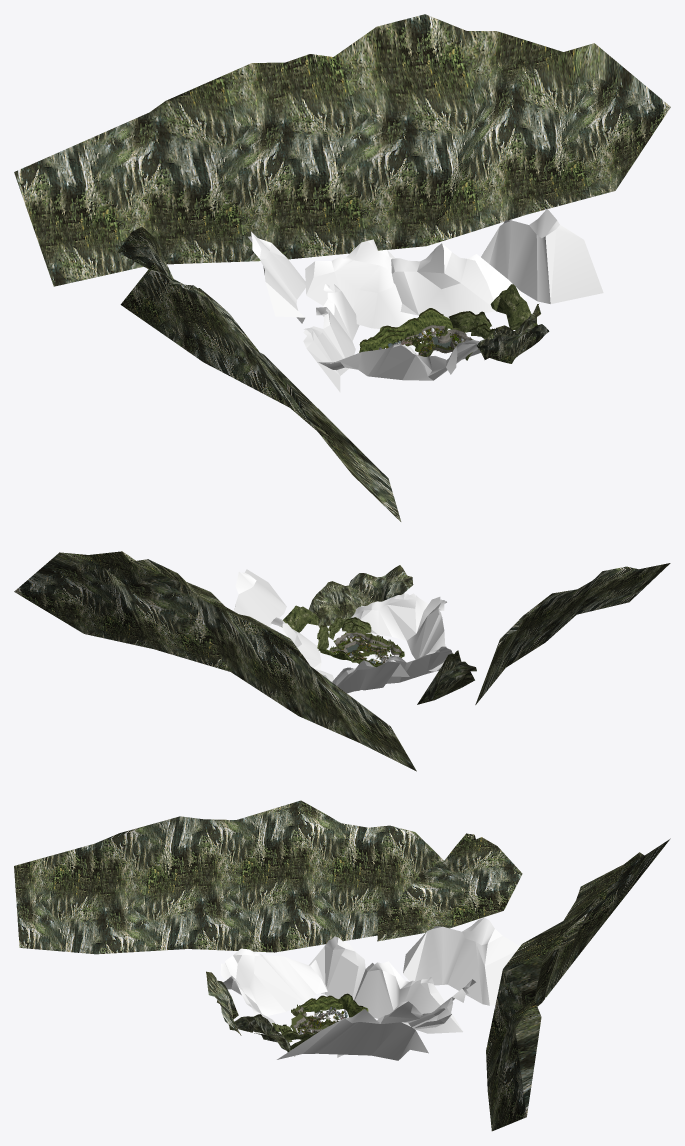
The model's file is burnout_dominator_bushido_peak.glb.
The picture shows the model from 3 angles, top to bottom: view 1: azimuth 30°, elevation 25°; view 2: azimuth 150°, elevation 25°; view 3: azimuth 270°, elevation 25°; orthographic projection. The views are drawn at different scales.
Parts seen in each view (by area): view 1: backdrop_grp_009_mdl_003_sub_000, backdrop_grp_009_mdl_004_sub_000, backdrop_grp_009_mdl_002_sub_000, backdrop_grp_009_mdl_008_sub_002, backdrop_grp_009_mdl_000_sub_000, backdrop_grp_009_mdl_001_sub_000, backdrop_grp_009_mdl_006_sub_000, backdrop_grp_009_mdl_005_sub_000, backdrop_grp_009_mdl_007_sub_000, backdrop_grp_009_mdl_003_sub_001, backdrop_grp_009_mdl_005_sub_001, backdrop_grp_009_mdl_008_sub_001 (+2 smaller); view 2: backdrop_grp_009_mdl_002_sub_000, backdrop_grp_009_mdl_003_sub_000, backdrop_grp_009_mdl_004_sub_000, backdrop_grp_009_mdl_000_sub_000, backdrop_grp_009_mdl_008_sub_002, backdrop_grp_009_mdl_006_sub_000, backdrop_grp_009_mdl_001_sub_000, backdrop_grp_009_mdl_008_sub_001, backdrop_grp_009_mdl_007_sub_000, backdrop_grp_009_mdl_005_sub_000, backdrop_grp_009_mdl_005_sub_001, backdrop_grp_009_mdl_008_sub_000; view 3: backdrop_grp_009_mdl_006_sub_000, backdrop_grp_009_mdl_007_sub_000, backdrop_grp_009_mdl_005_sub_000, backdrop_grp_009_mdl_000_sub_000, backdrop_grp_009_mdl_005_sub_001, backdrop_grp_009_mdl_008_sub_002, backdrop_grp_009_mdl_002_sub_000, backdrop_grp_009_mdl_001_sub_000, backdrop_grp_009_mdl_004_sub_000, backdrop_grp_009_mdl_003_sub_000, backdrop_grp_009_mdl_008_sub_001, backdrop_grp_009_mdl_003_sub_001 (+1 smaller).
Part boxes in pixels (<box>): backdrop_grp_009_mdl_003_sub_000: <box>245,14,473,259</box>; backdrop_grp_009_mdl_004_sub_000: <box>14,63,278,286</box>; backdrop_grp_009_mdl_002_sub_000: <box>425,14,615,245</box>; backdrop_grp_009_mdl_008_sub_002: <box>392,208,603,359</box>; backdrop_grp_009_mdl_000_sub_000: <box>306,272,477,380</box>; backdrop_grp_009_mdl_001_sub_000: <box>564,43,670,190</box>; backdrop_grp_009_mdl_006_sub_000: <box>150,269,316,430</box>; backdrop_grp_009_mdl_005_sub_000: <box>118,226,202,361</box>; backdrop_grp_009_mdl_007_sub_000: <box>252,348,401,521</box>; backdrop_grp_009_mdl_003_sub_001: <box>248,237,420,315</box>; backdrop_grp_009_mdl_005_sub_001: <box>248,231,334,336</box>; backdrop_grp_009_mdl_008_sub_001: <box>476,304,549,363</box>; backdrop_grp_009_mdl_002_sub_000: <box>81,551,230,671</box>; backdrop_grp_009_mdl_003_sub_000: <box>148,559,298,715</box>; backdrop_grp_009_mdl_004_sub_000: <box>251,617,416,771</box>; backdrop_grp_009_mdl_000_sub_000: <box>314,593,451,691</box>; backdrop_grp_009_mdl_008_sub_002: <box>234,569,402,667</box>; backdrop_grp_009_mdl_006_sub_000: <box>480,580,592,699</box>; backdrop_grp_009_mdl_001_sub_000: <box>14,552,87,633</box>; backdrop_grp_009_mdl_008_sub_001: <box>308,565,413,628</box>; backdrop_grp_009_mdl_007_sub_000: <box>546,563,670,641</box>; backdrop_grp_009_mdl_005_sub_000: <box>417,641,499,704</box>; backdrop_grp_009_mdl_005_sub_001: <box>326,654,430,693</box>; backdrop_grp_009_mdl_008_sub_000: <box>281,605,319,632</box>; backdrop_grp_009_mdl_006_sub_000: <box>188,800,414,952</box>; backdrop_grp_009_mdl_007_sub_000: <box>14,816,203,954</box>; backdrop_grp_009_mdl_005_sub_000: <box>377,832,522,941</box>; backdrop_grp_009_mdl_000_sub_000: <box>220,946,462,1033</box>; backdrop_grp_009_mdl_005_sub_001: <box>341,917,519,1005</box>; backdrop_grp_009_mdl_008_sub_002: <box>239,988,443,1060</box>; backdrop_grp_009_mdl_002_sub_000: <box>486,911,588,1130</box>; backdrop_grp_009_mdl_001_sub_000: <box>492,999,541,1131</box>; backdrop_grp_009_mdl_004_sub_000: <box>542,838,670,1002</box>; backdrop_grp_009_mdl_003_sub_000: <box>503,864,623,1006</box>; backdrop_grp_009_mdl_008_sub_001: <box>206,971,294,1056</box>; backdrop_grp_009_mdl_003_sub_001: <box>413,951,545,1030</box>.
Bounding box in the file's own units: 205 × 68.71 × 212.
100 materials, 99 textured.
